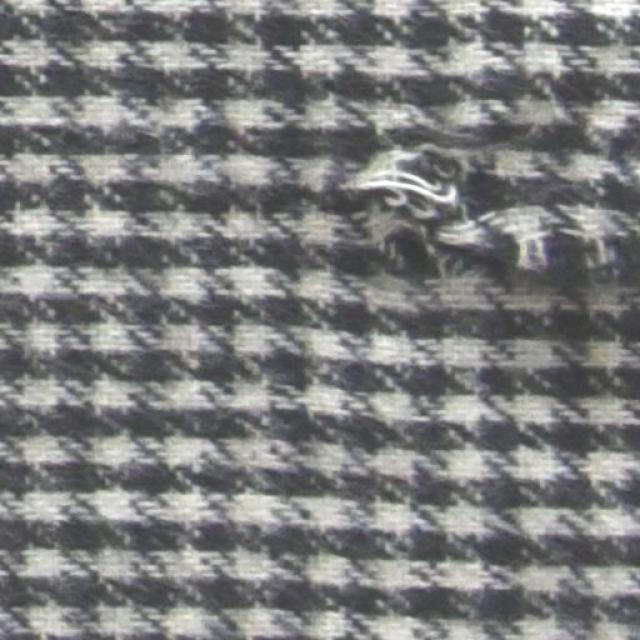Snag: (346, 101, 639, 302)
